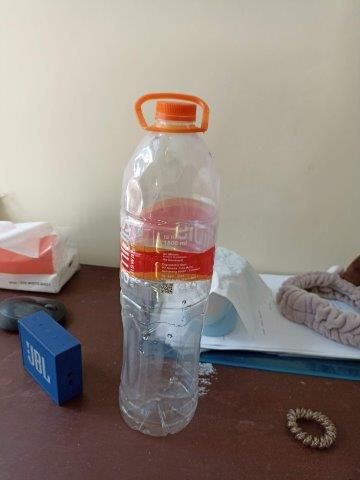botolplastik: (118, 98, 220, 435)
